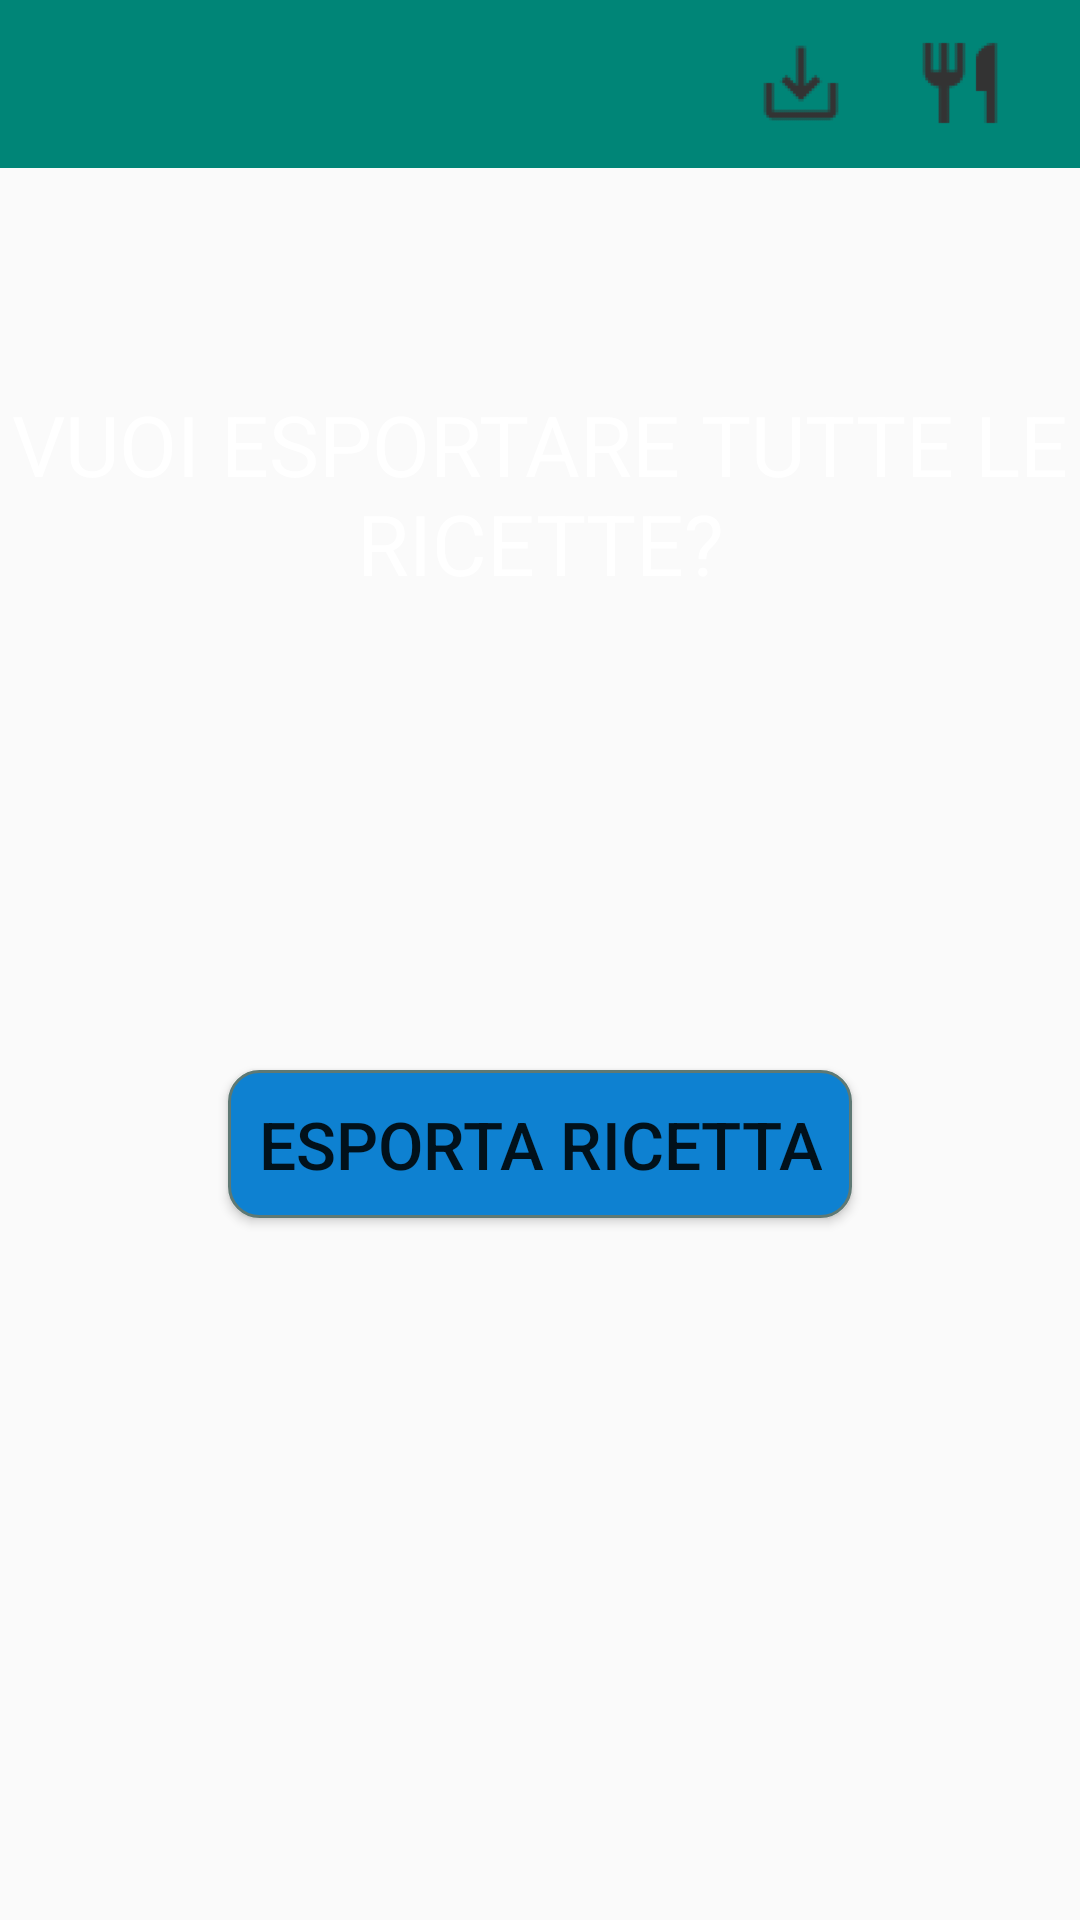

Locate icon controls on the screen. Image size 1080*1920, boxes as bbox(x1, y1, x2, y2).
save: bbox(764, 46, 838, 120)
